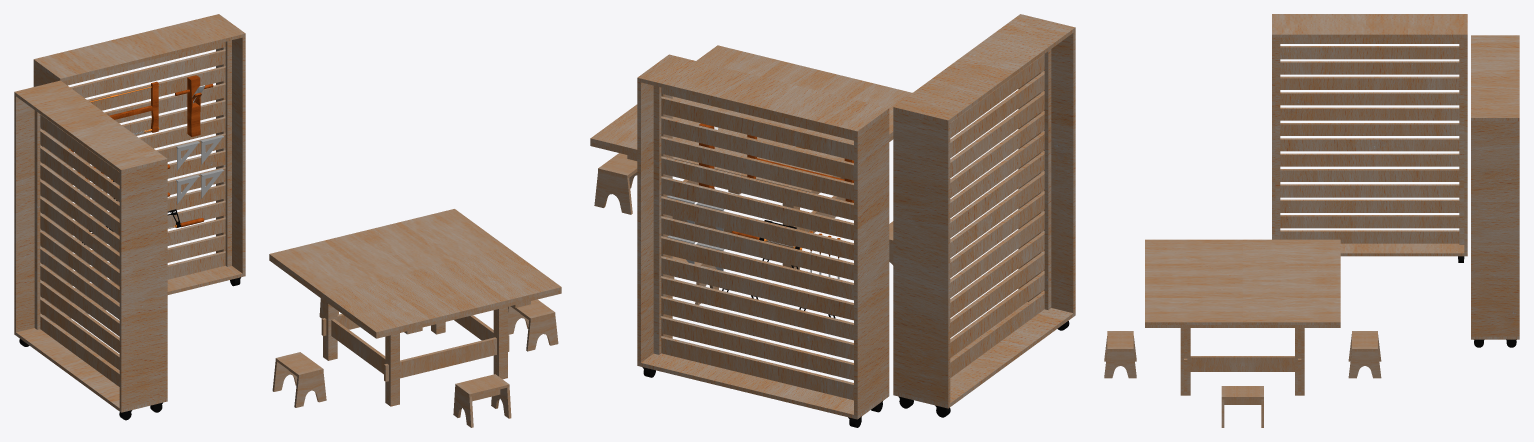
Rendered from 新方案7.obj.
The picture shows the model from 3 angles, left to right: view 1: azimuth 30°, elevation 25°; view 2: azimuth 150°, elevation 25°; view 3: azimuth 270°, elevation 25°; orthographic projection. The views are drawn at different scales.
Visible parts, largest first — view 1: Cube.021, Cube.036, Cube.079, Cube.037, Cube.038, Cube.078, Cube.035, Cube.106, Cube.028, Cube.105, Cube.108, Cube.112 (+39 smaller); view 2: Cube.038, Cube.080, Cube.079, Cube.037, Cube.021, Cube.036, Cube.078, Cube.077, Cube.035, Cube.100, Cube.098, Cube.099 (+28 smaller); view 3: Cube.021, Cube.078, Cube.037, Cube.079, Cube.083, Cube.091, Cube.081, Cube.082, Cube.085, Cube.086, Cube.088, Cube.089 (+18 smaller).
Part boxes in pixels (x1,y1,x2,y2): Cube.021: (269, 209, 561, 335); Cube.036: (119, 162, 167, 409); Cube.079: (33, 14, 245, 81); Cube.037: (14, 80, 167, 173); Cube.038: (14, 95, 62, 332); Cube.078: (216, 37, 245, 273); Cube.035: (14, 323, 167, 412); Cube.106: (70, 49, 225, 97); Cube.028: (384, 335, 509, 381); Cube.105: (87, 66, 225, 110); Cube.108: (225, 40, 231, 266); Cube.112: (34, 110, 40, 329); Cube.038: (893, 111, 950, 404); Cube.080: (854, 112, 889, 415); Cube.079: (637, 54, 889, 135); Cube.037: (893, 14, 1075, 124); Cube.021: (590, 45, 912, 193); Cube.036: (1018, 31, 1075, 313); Cube.078: (637, 81, 672, 362); Cube.077: (637, 353, 889, 419); Cube.035: (893, 302, 1075, 408); Cube.100: (661, 216, 853, 280); Cube.098: (661, 256, 853, 320); Cube.099: (661, 236, 853, 300); Cube.021: (1145, 239, 1340, 324); Cube.078: (1471, 121, 1519, 336); Cube.037: (1272, 14, 1467, 37); Cube.079: (1471, 35, 1519, 120); Cube.083: (1280, 184, 1459, 197); Cube.091: (1280, 61, 1459, 74); Cube.081: (1280, 215, 1459, 228); Cube.082: (1280, 199, 1459, 212); Cube.085: (1280, 153, 1459, 166); Cube.086: (1280, 138, 1459, 151); Cube.088: (1280, 107, 1459, 120); Cube.089: (1280, 92, 1459, 105).
Bounding box in the file's own units: 2.65 × 1.57 × 2.55.
